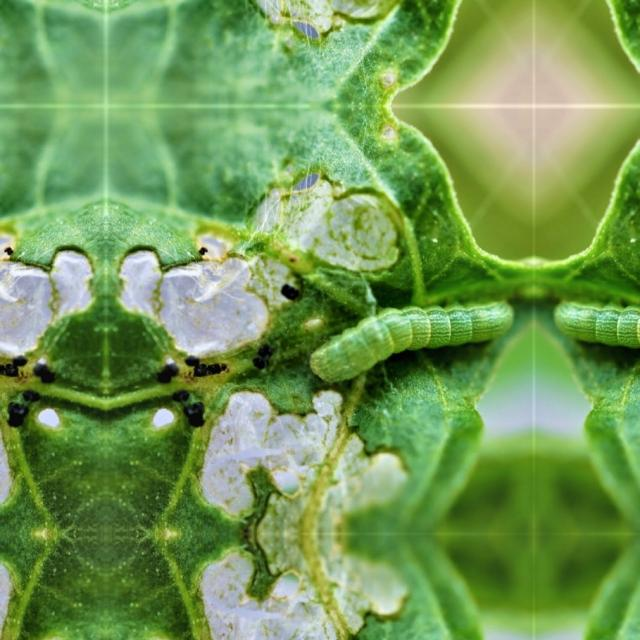armyworm: (307, 297, 512, 388), (549, 292, 640, 360)
